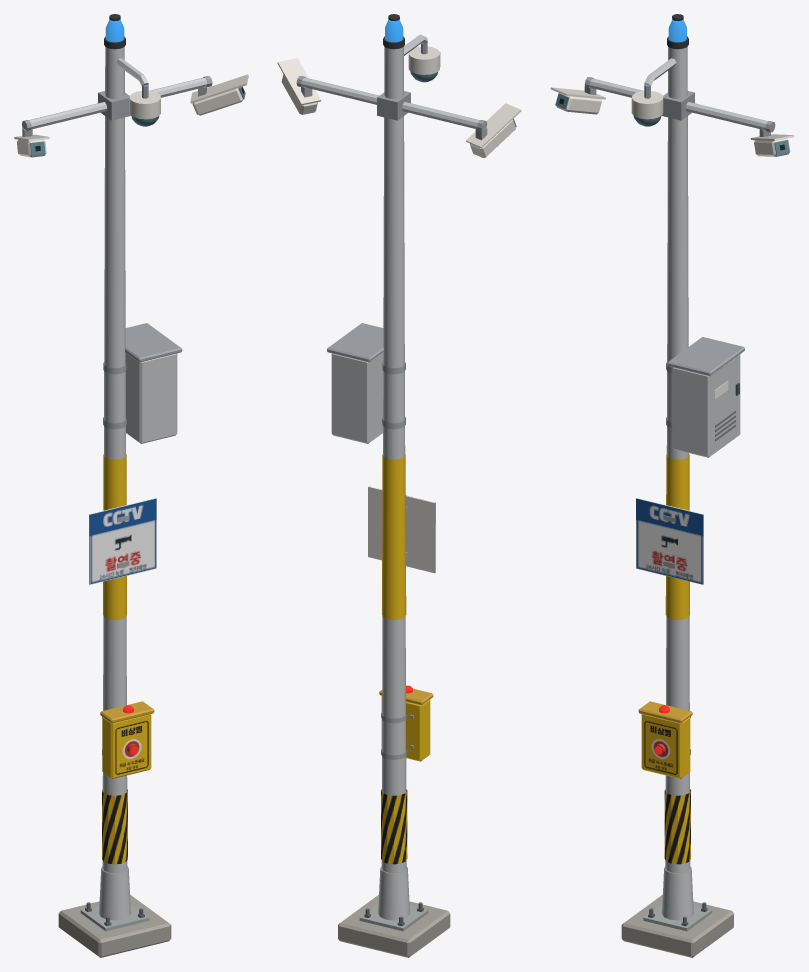
File: SC_Util_CCTV_Pole.gltf
3 views of the same model, side by side, from view 1: azimuth 30°, elevation 25°; view 2: azimuth 150°, elevation 25°; view 3: azimuth 330°, elevation 25° (orthographic).
Parts seen in each view (by area): view 1: SC_Util_CCTV_Pole; view 2: SC_Util_CCTV_Pole; view 3: SC_Util_CCTV_Pole.
Part boxes in pixels (<box>): SC_Util_CCTV_Pole: <box>14,14,248,957</box>; SC_Util_CCTV_Pole: <box>277,14,521,957</box>; SC_Util_CCTV_Pole: <box>550,14,794,957</box>.
Bounding box in the file's own units: 1.59 × 6.03 × 0.705.
3 materials, 3 textured.
